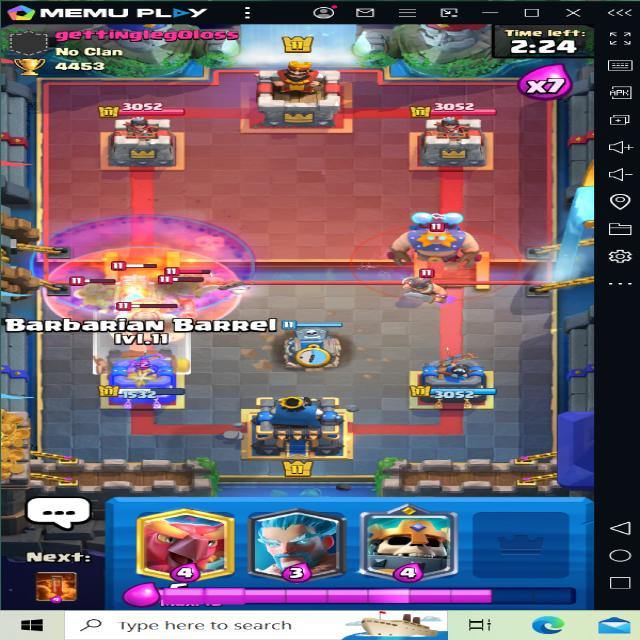electro-barbarians: (402, 266, 453, 300)
electro-giant: (381, 212, 486, 272)
goblin-giant: (107, 292, 187, 350)
musketeer: (73, 272, 119, 310)
sparky: (116, 269, 154, 302)
